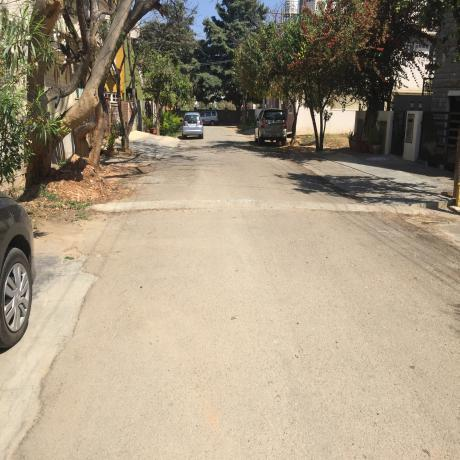Speed Bump: (82, 199, 428, 218)
